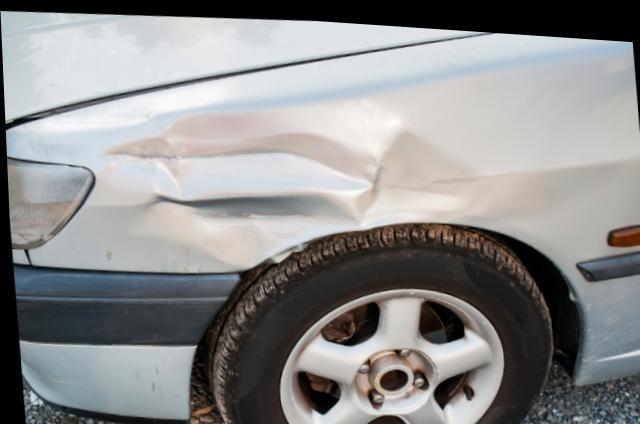dent: (103, 95, 480, 267)
